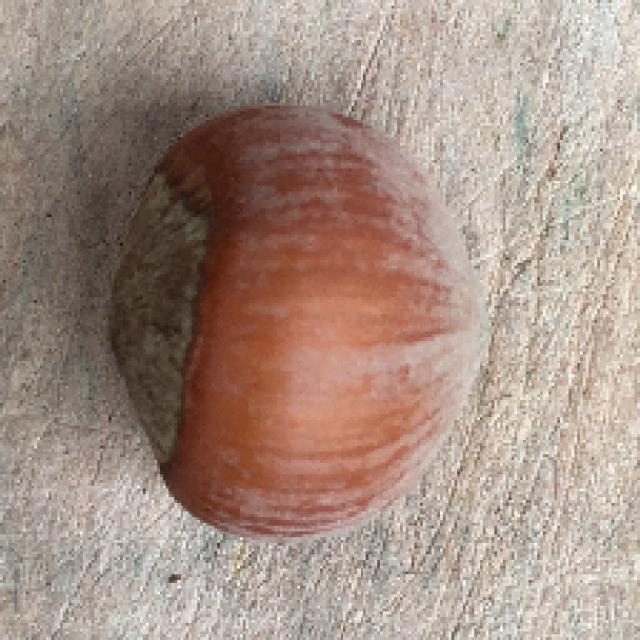qualityHazelnut: (101, 91, 498, 557)
